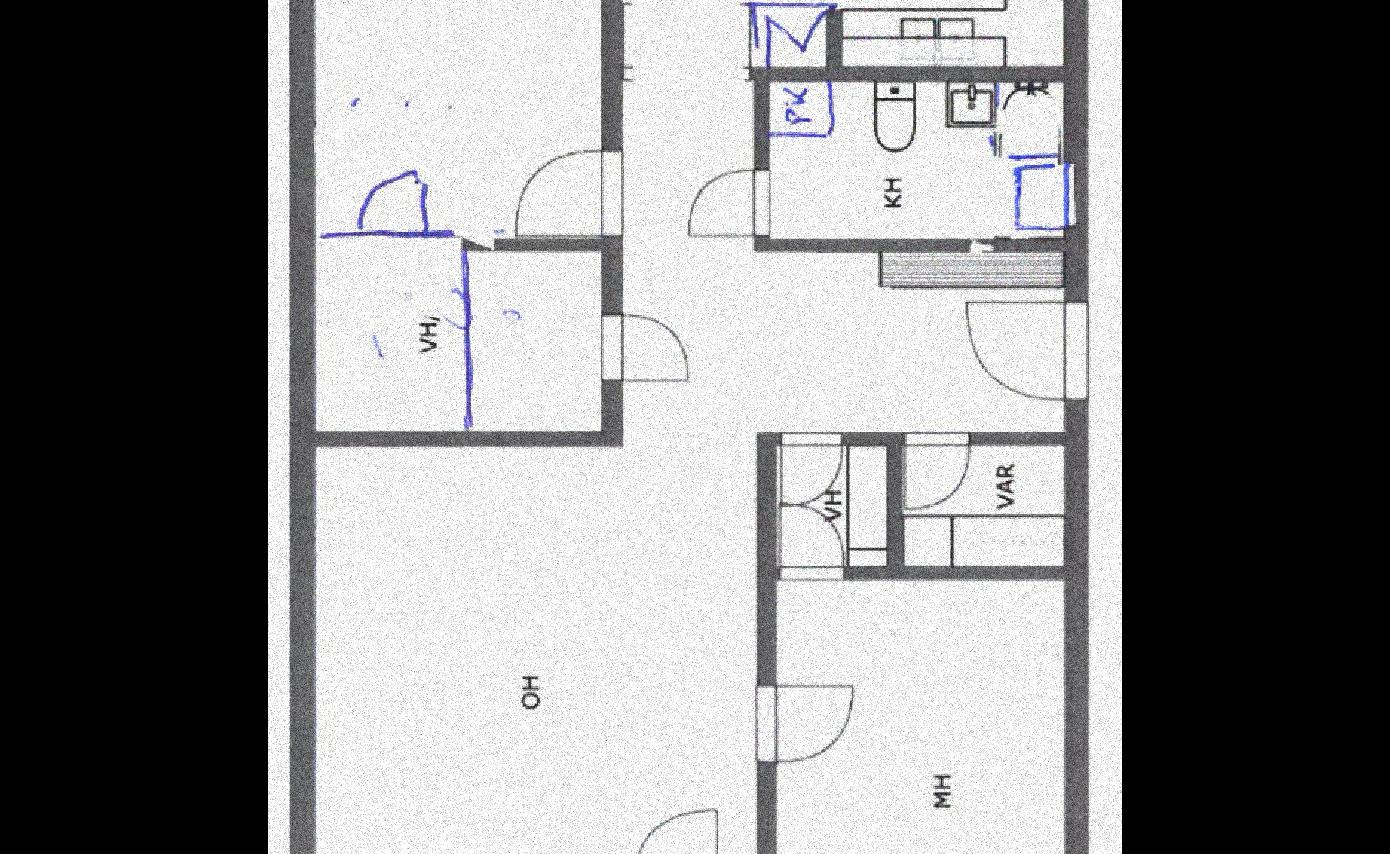door: (315, 0, 1067, 854), (774, 580, 1070, 854), (309, 0, 597, 234), (773, 77, 1063, 242), (313, 236, 470, 429), (470, 249, 602, 432), (902, 445, 1063, 567), (777, 446, 883, 567)
window: (956, 299, 1086, 399), (512, 151, 623, 242), (757, 679, 858, 763), (601, 310, 695, 382), (683, 166, 772, 241), (899, 429, 975, 511), (628, 804, 728, 854), (781, 504, 845, 580), (778, 434, 845, 505)
